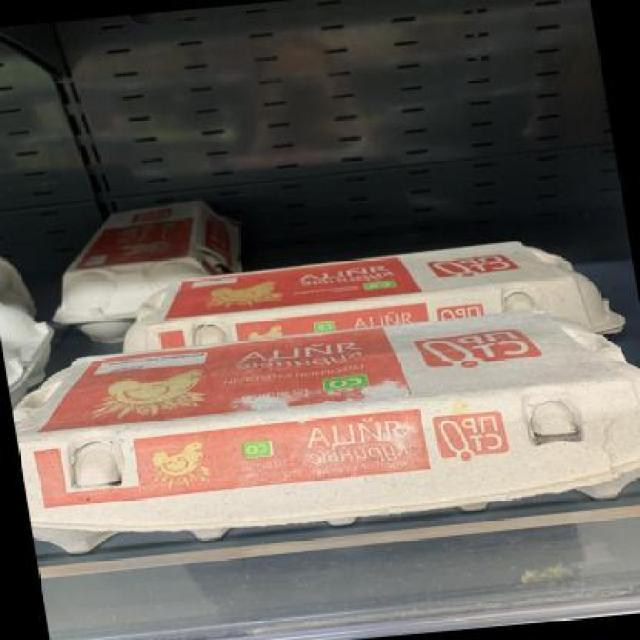Egg: (4, 298, 640, 565), (109, 229, 615, 351)
